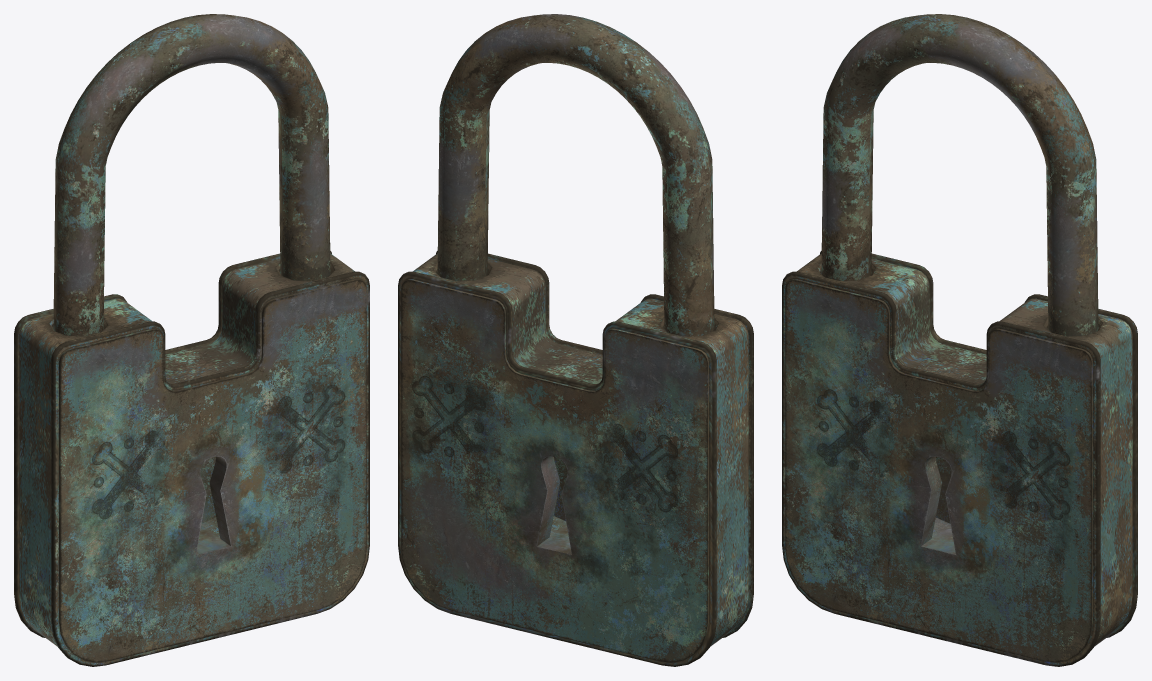
File: lock_and_key02.glb
3 views of the same model, side by side, from view 1: azimuth 30°, elevation 25°; view 2: azimuth 150°, elevation 25°; view 3: azimuth 330°, elevation 25° (orthographic).
Visible parts, largest first — view 1: Boole; view 2: Boole; view 3: Boole.
Boxes of the visible parts, x1,y1,x2,y2 form: Boole: (14, 14, 369, 666); Boole: (398, 14, 753, 666); Boole: (782, 14, 1137, 666).
Bounding box in the file's own units: 0.2071 × 0.3789 × 0.0487.
1 material, 1 textured.
